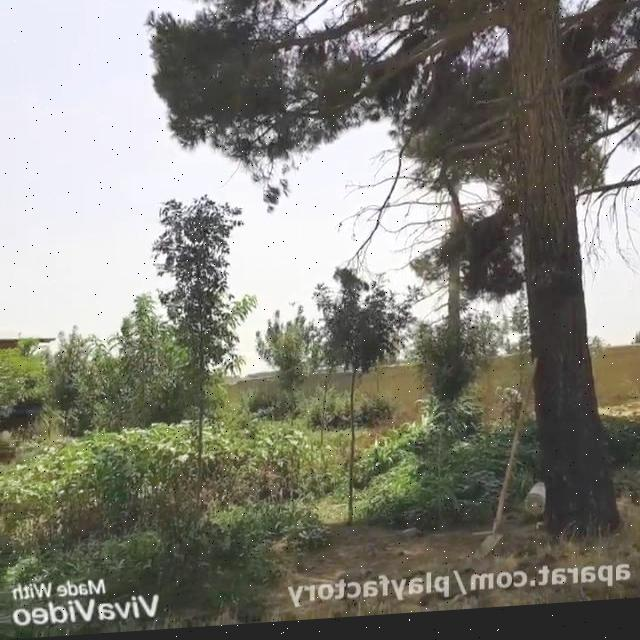drone: (284, 301, 300, 312)
